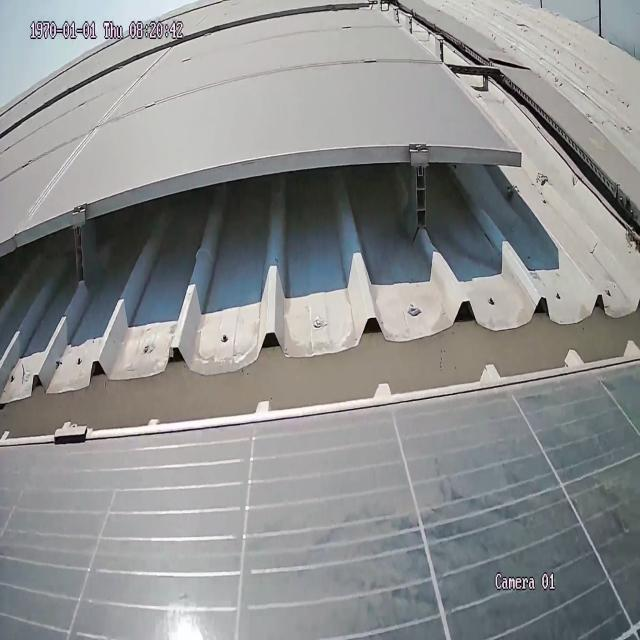interior panel: (14, 59, 167, 223)
outher panel: (0, 0, 640, 439)
